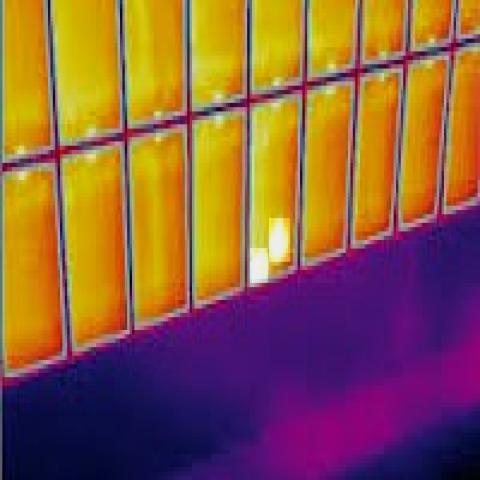fault: (269, 218, 290, 262), (250, 248, 268, 283)
